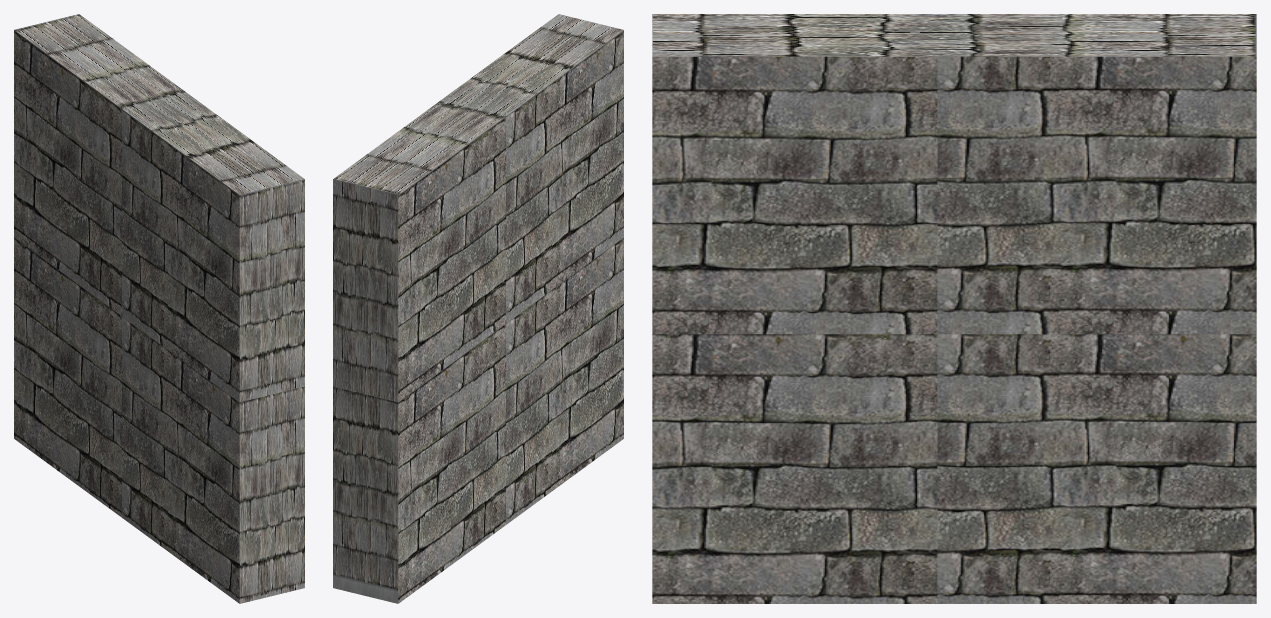
File: SkinnyWall_Dungeon.fbx
3 renders of one model, left to right at view 1: azimuth 30°, elevation 25°; view 2: azimuth 150°, elevation 25°; view 3: azimuth 270°, elevation 25°, orthographic. The views are drawn at different scales.
Parts seen in each view (by area): view 1: pCube8; view 2: pCube8; view 3: pCube8.
Boxes of the visible parts, box(x1,y1,x2,y2) form: pCube8: box(14, 14, 304, 603); pCube8: box(333, 14, 623, 603); pCube8: box(652, 14, 1256, 603).
Size of the model in its own units: 0.5 by 3 by 3.
